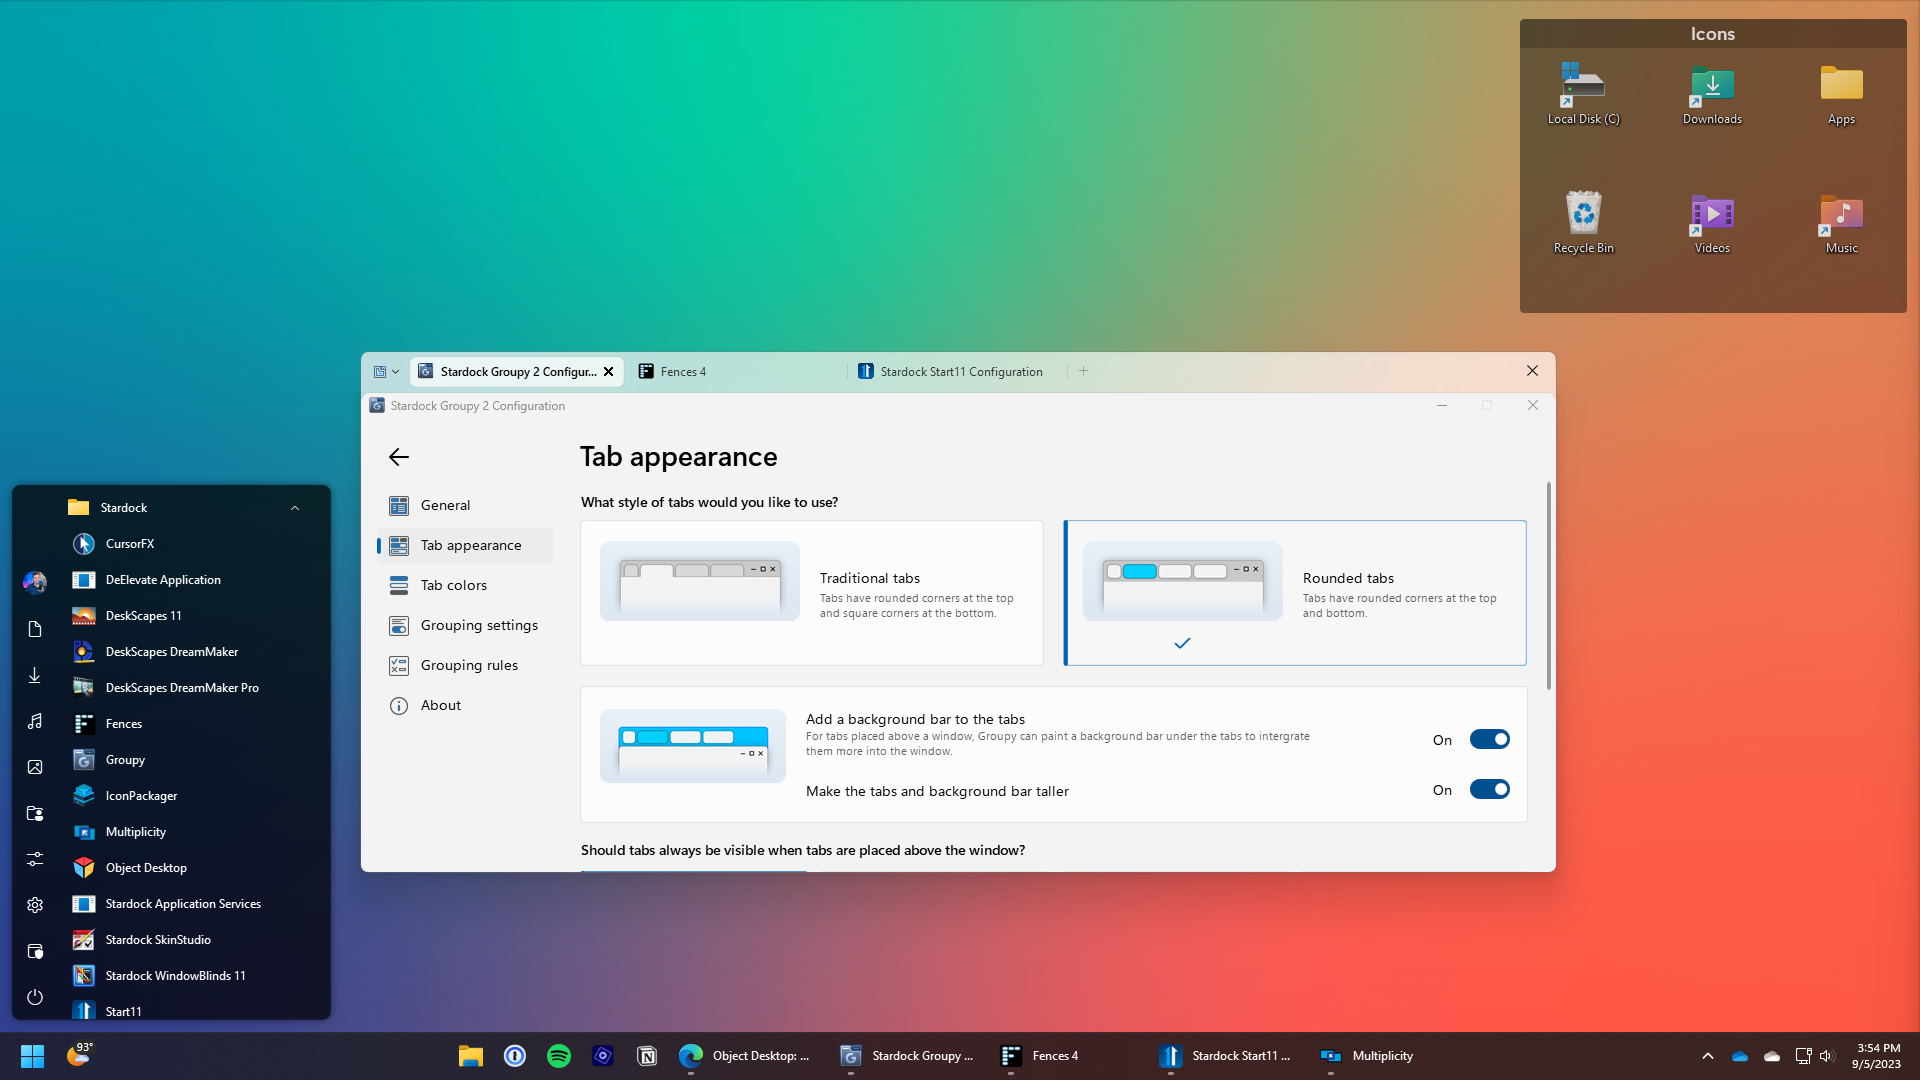start_bar: (16, 1034, 54, 1073)
